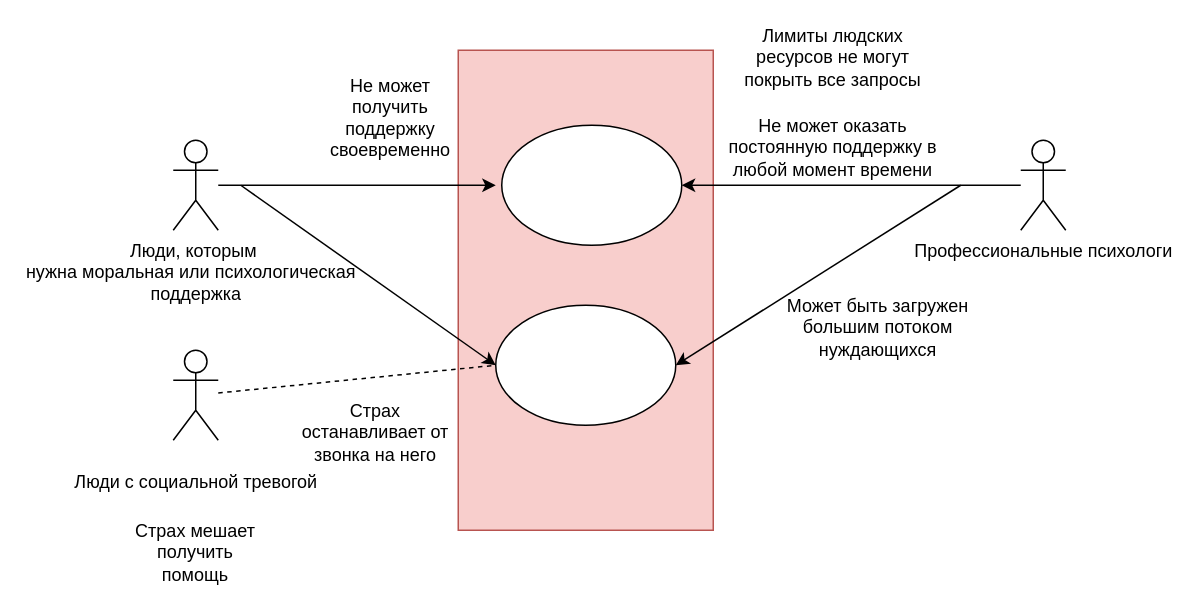
The diagram is 1197 pixels wide and 611 high, and some of its shapes have lost their labels. Here are the shapes that lost their labels. From the top down, the centre of each, then its label:
At pixel 591 184: "Службы психологической помощи".
At pixel 585 364: "Экстренные номера".
